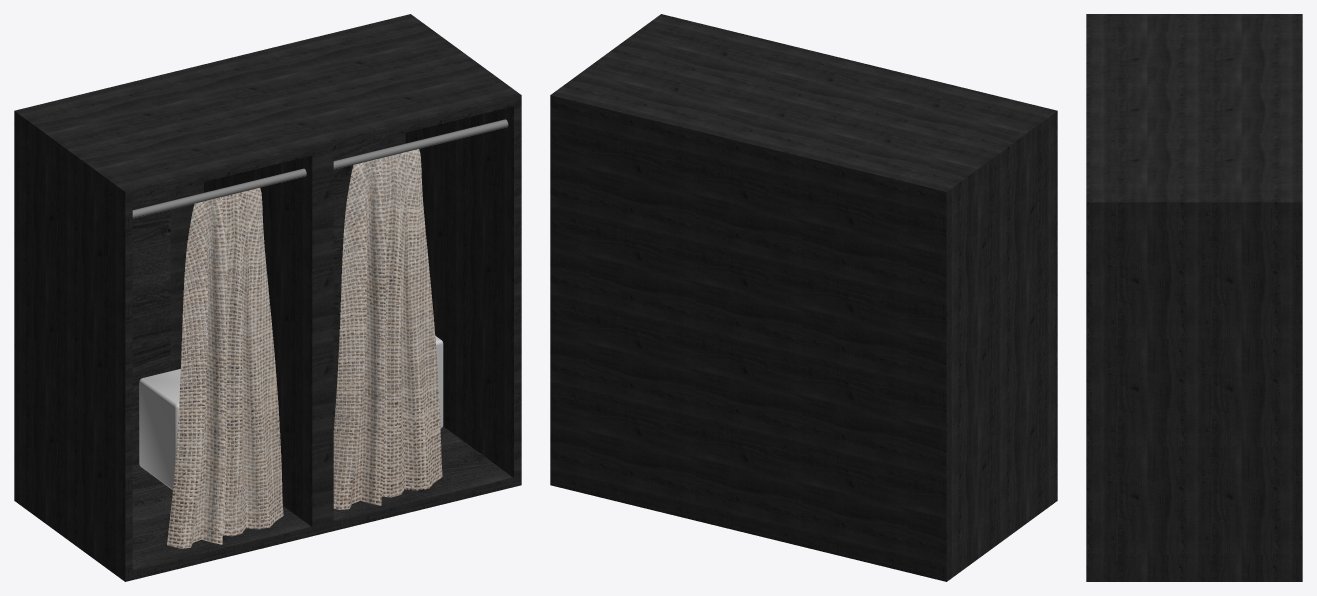
Rendered from probadores.fbx.
3 views of the same model, side by side, from view 1: azimuth 30°, elevation 25°; view 2: azimuth 150°, elevation 25°; view 3: azimuth 270°, elevation 25° (orthographic). The views are drawn at different scales.
Visible parts, largest first — view 1: gengyijian_kuangjia, chuanglian, gengyijian_jingzi, gengyijian_ditan, gengyijian_dengzihong, gengyijianjiazi; view 2: gengyijian_kuangjia; view 3: gengyijian_kuangjia.
Boxes of the visible parts, x1=… form: gengyijian_kuangjia: x1=14, y1=14, x2=521, y2=581; chuanglian: x1=167, y1=149, x2=442, y2=548; gengyijian_jingzi: x1=132, y1=139, x2=379, y2=431; gengyijian_ditan: x1=132, y1=416, x2=511, y2=569; gengyijian_dengzihong: x1=139, y1=369, x2=180, y2=489; gengyijianjiazi: x1=132, y1=119, x2=508, y2=218; gengyijian_kuangjia: x1=550, y1=14, x2=1057, y2=581; gengyijian_kuangjia: x1=1086, y1=14, x2=1302, y2=581.
Bounding box in the file's own units: 292 × 275 × 142.
